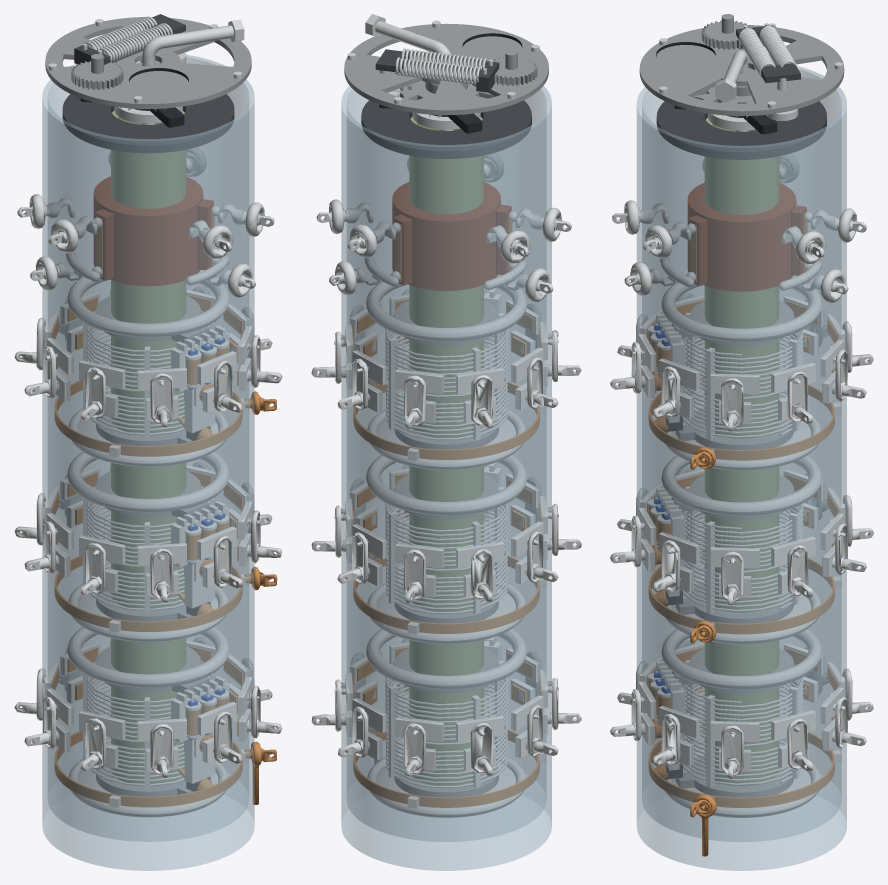
The model's file is cv-insert.glb.
3 views of the same model, side by side, from view 1: azimuth 30°, elevation 25°; view 2: azimuth 150°, elevation 25°; view 3: azimuth 270°, elevation 25° (orthographic).
Visible parts, largest first — view 1: comp, ins-shaft, cv-terminal, cv-terminal#2, accum, cos, cos-term, takeoff#1, ins-frame, ins-frame#1, ins-ring#2, ins-ring#1 (+19 smaller); view 2: comp, ins-shaft, cv-terminal, cv-terminal#2, cos, accum, cos-term, takeoff#1, ins-frame, ins-frame#1, ins-ring#2, ins-ring#1 (+16 smaller); view 3: comp, ins-shaft, cv-terminal, cv-terminal#2, accum, cos, ins-frame, cos-term, takeoff#1, ins-frame#1, ins-ring#1, ins-ring#2 (+19 smaller).
Boxes of the visible parts, box(x1,y1,x2,y2) form: comp: box(42, 55, 254, 870); ins-shaft: box(111, 111, 186, 783); cv-terminal: box(14, 287, 282, 777); cv-terminal#2: box(44, 288, 252, 770); accum: box(45, 17, 251, 108); cos: box(93, 176, 213, 286); cos-term: box(17, 147, 274, 297); takeoff#1: box(54, 380, 242, 807); ins-frame: box(96, 295, 209, 796); ins-frame#1: box(62, 94, 234, 153); ins-ring#2: box(67, 627, 229, 817); ins-ring#1: box(67, 452, 229, 642); comp: box(341, 86, 551, 870); ins-shaft: box(409, 117, 483, 785); cv-terminal: box(311, 289, 581, 776); cv-terminal#2: box(345, 294, 547, 771); cos: box(392, 182, 511, 290); accum: box(344, 23, 548, 114); cos-term: box(316, 153, 571, 302); takeoff#1: box(353, 380, 539, 807); ins-frame: box(394, 300, 498, 797); ins-frame#1: box(361, 100, 531, 158); ins-ring#2: box(366, 629, 526, 817); ins-ring#1: box(366, 455, 526, 643); comp: box(636, 66, 846, 870); ins-shaft: box(704, 118, 779, 786); cv-terminal: box(610, 293, 873, 779); cv-terminal#2: box(638, 294, 845, 771); accum: box(639, 25, 844, 115); cos: box(687, 183, 806, 291); ins-frame: box(669, 301, 793, 797); cos-term: box(612, 154, 866, 302); takeoff#1: box(648, 377, 834, 807); ins-frame#1: box(656, 101, 826, 159); ins-ring#1: box(661, 455, 822, 644); ins-ring#2: box(661, 629, 822, 817).
Bounding box in the file's own units: 0.5056 × 1.63 × 0.4957.
